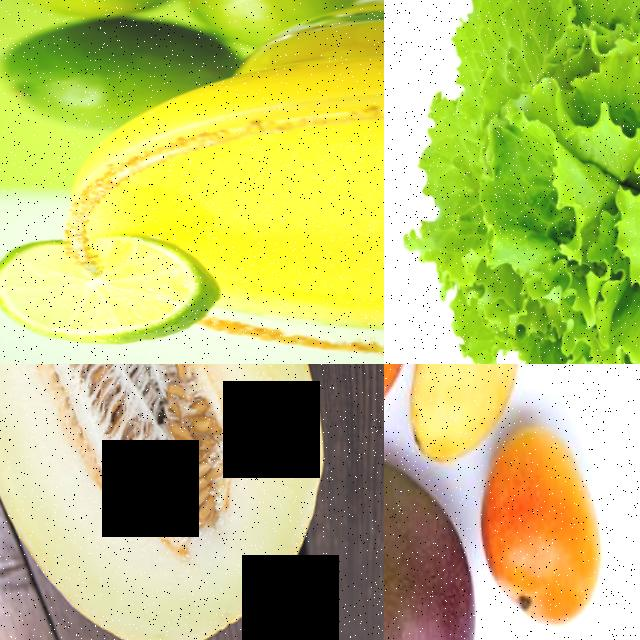lemon: (0, 245, 224, 355)
lettuce: (384, 0, 640, 364)
mango: (471, 404, 618, 630), (384, 436, 495, 640), (397, 364, 569, 467)
melon: (0, 364, 302, 640)
